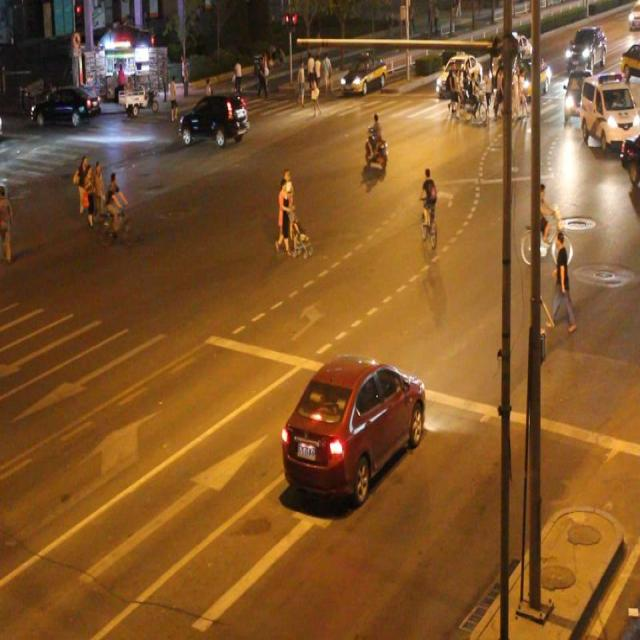car: (281, 354, 426, 496), (578, 73, 640, 149), (179, 91, 250, 146), (618, 131, 640, 186)
